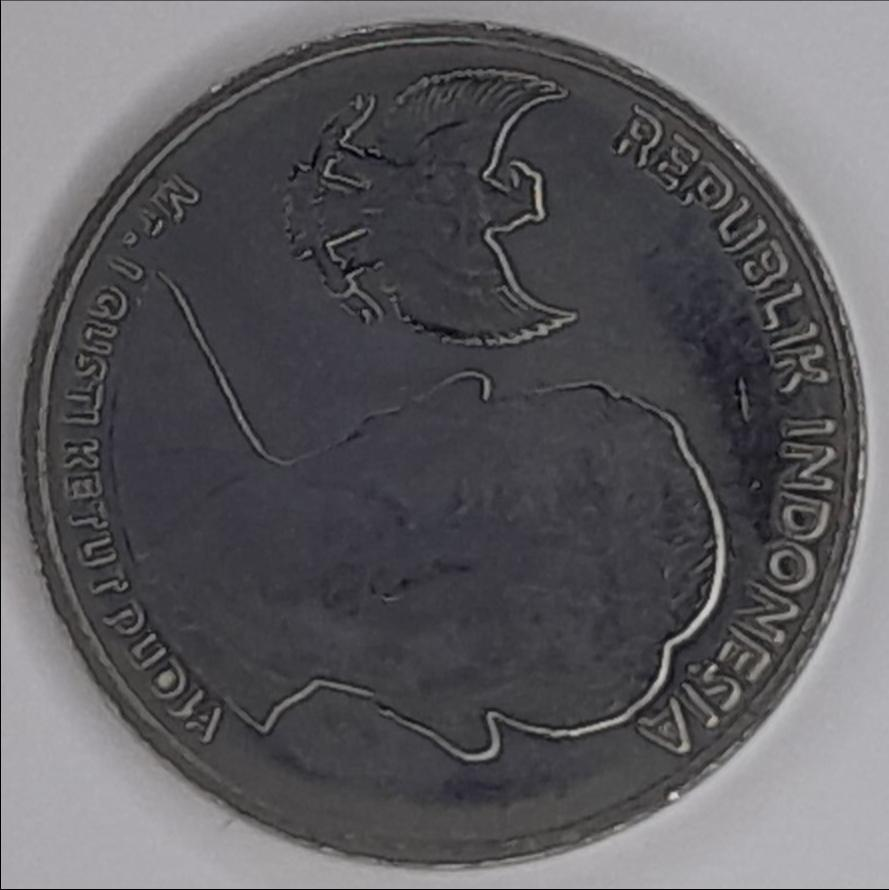coin_1000_e2016: (15, 18, 877, 890)
